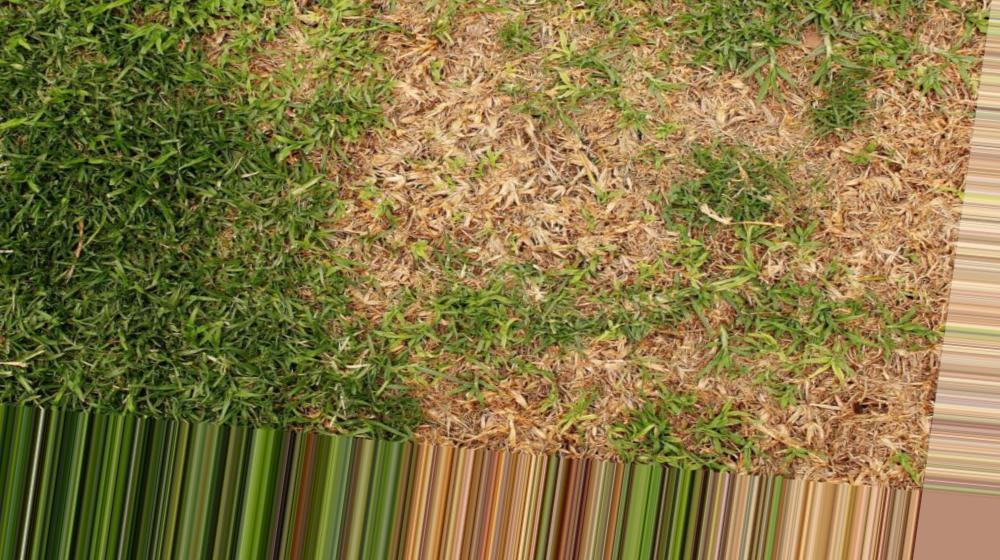patch: (421, 72, 630, 242), (872, 204, 991, 289), (736, 406, 898, 463), (677, 83, 798, 151)
